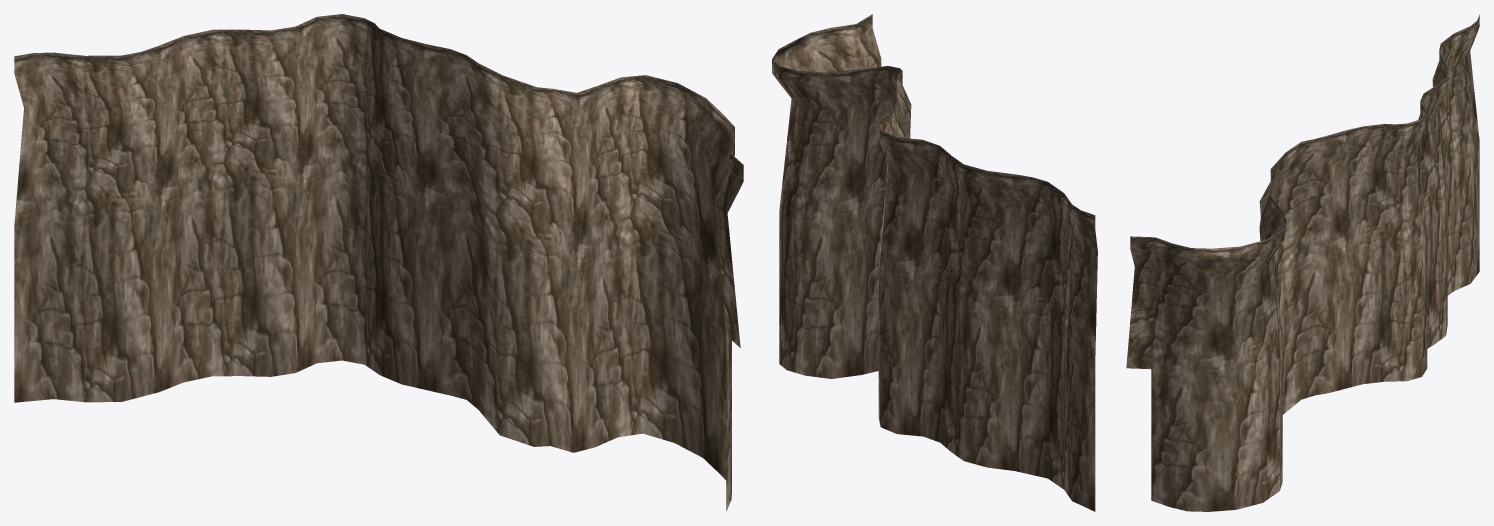
File: OVERHILL_A_01_OBJECT17.fbx
The picture shows the model from 3 angles, left to right: view 1: azimuth 30°, elevation 25°; view 2: azimuth 150°, elevation 25°; view 3: azimuth 270°, elevation 25°; orthographic projection. The views are drawn at different scales.
Parts seen in each view (by area): view 1: OVERHILL_A_01_OBJECT17; view 2: OVERHILL_A_01_OBJECT17; view 3: OVERHILL_A_01_OBJECT17.
Part boxes in pixels (x1,y1,x2,y2): OVERHILL_A_01_OBJECT17: [14, 14, 743, 511]; OVERHILL_A_01_OBJECT17: [772, 14, 1097, 511]; OVERHILL_A_01_OBJECT17: [1126, 14, 1479, 511].
Bounding box in the file's own units: 271039 × 202079 × 209939.
2 materials, 2 textured.
